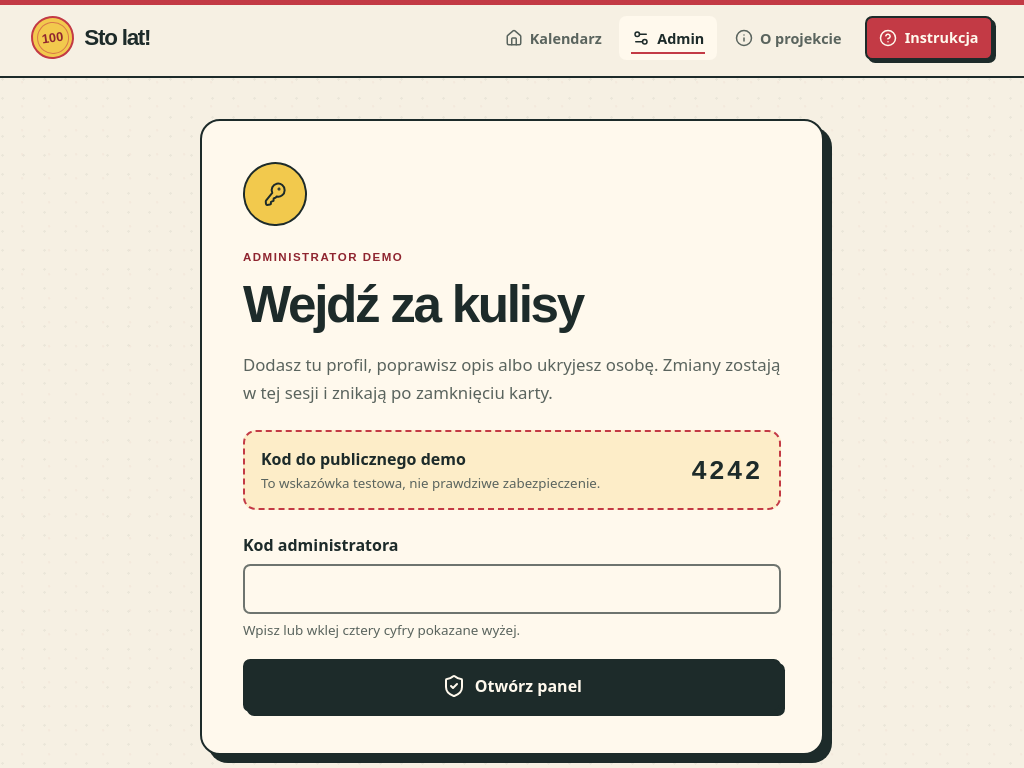
Test: kluczowe przepływy aplikacji › ukrywa profil i pozwala cofnąć operację
In the password field labelled "Kod administratora": [512, 588] box [243, 564, 781, 614], type "4242"
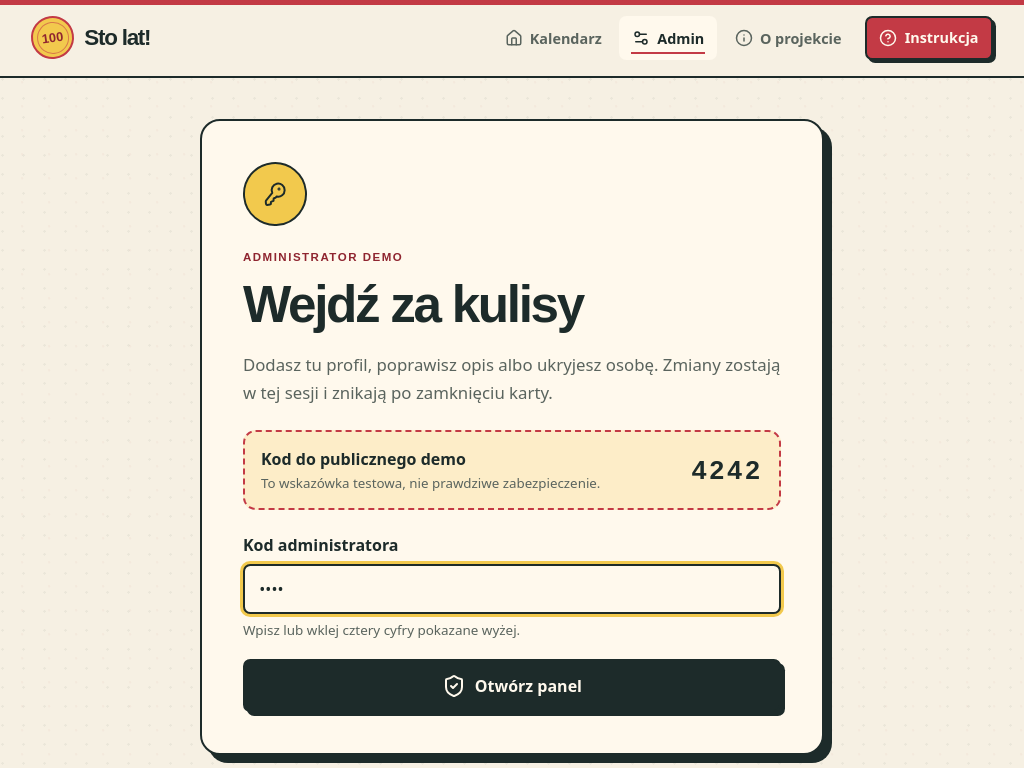
Click the button "Otwórz panel": [512, 686] box [243, 659, 781, 712]
(page scrolled)
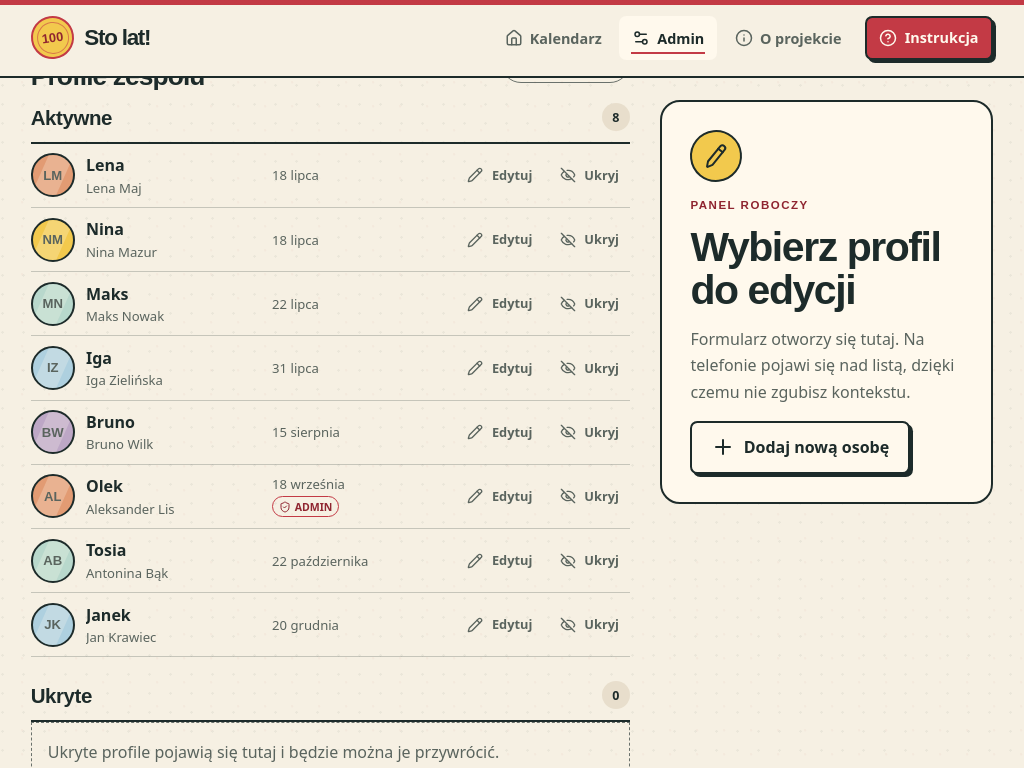
Now the list item "Bruno Wilk" is shown, box [86, 435, 153, 453]
Click the 5th button "Ukryj": [589, 432] box [549, 410, 630, 454]
(page scrolled)
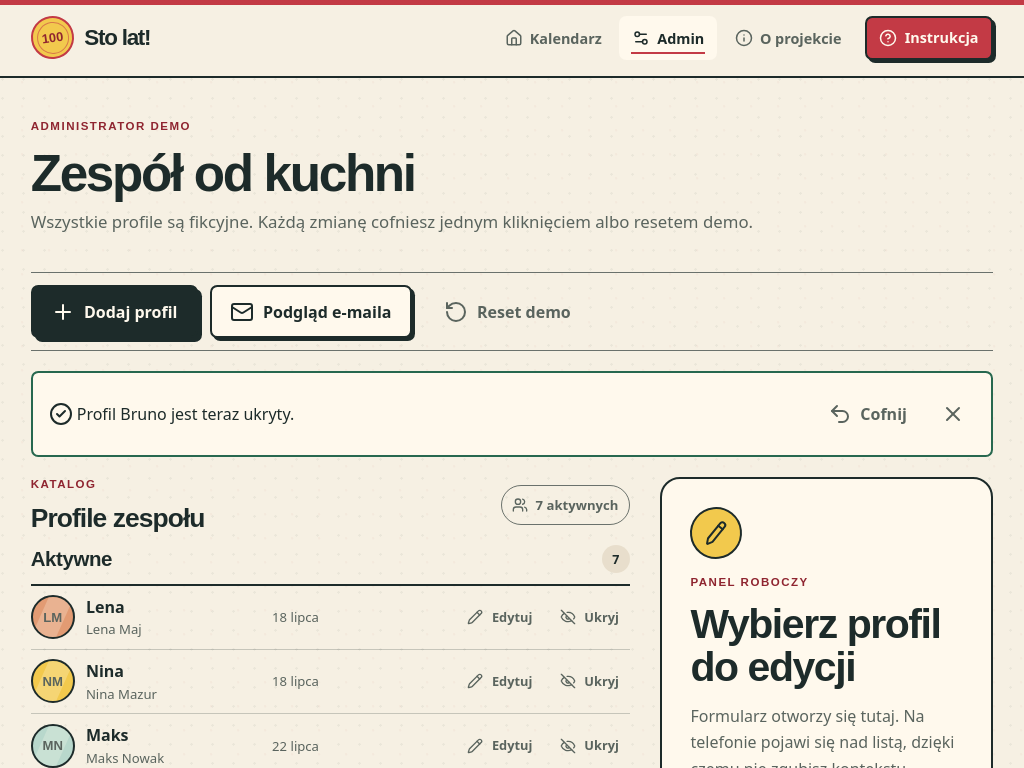
Now the text "Profil Bruno jest teraz ukryty." is shown, box [77, 403, 294, 425]
Click the button "Cofnij": [867, 414] box [807, 388, 927, 441]
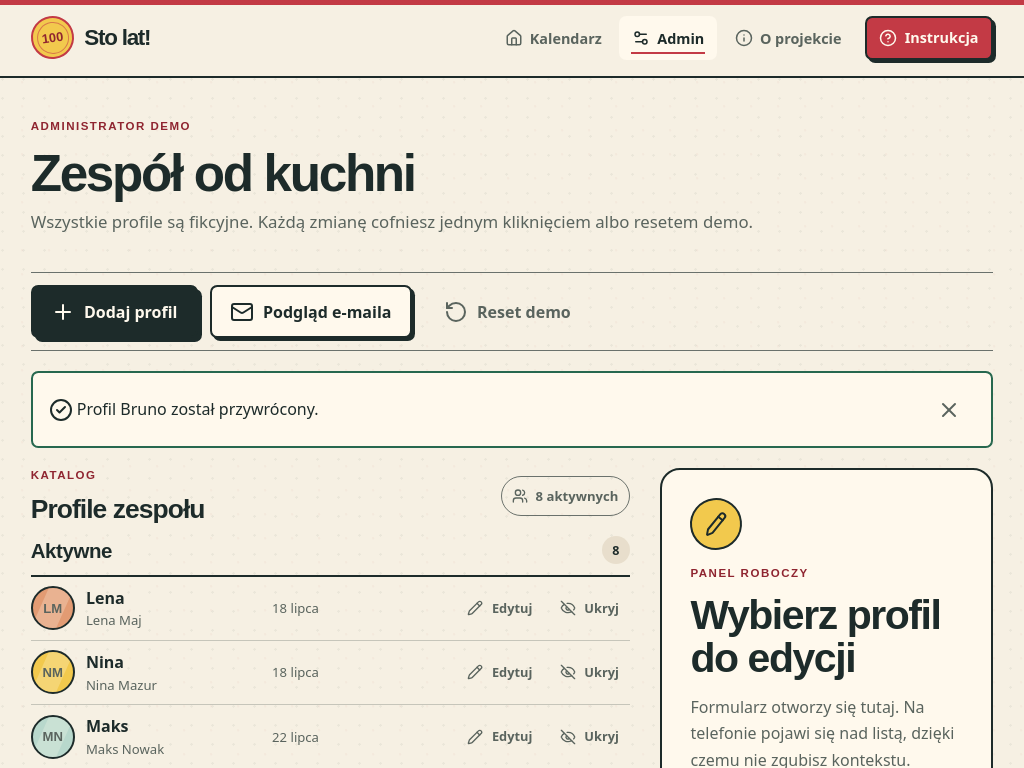
Now the text "Profil Bruno został przywrócony." is shown, box [77, 398, 318, 420]
